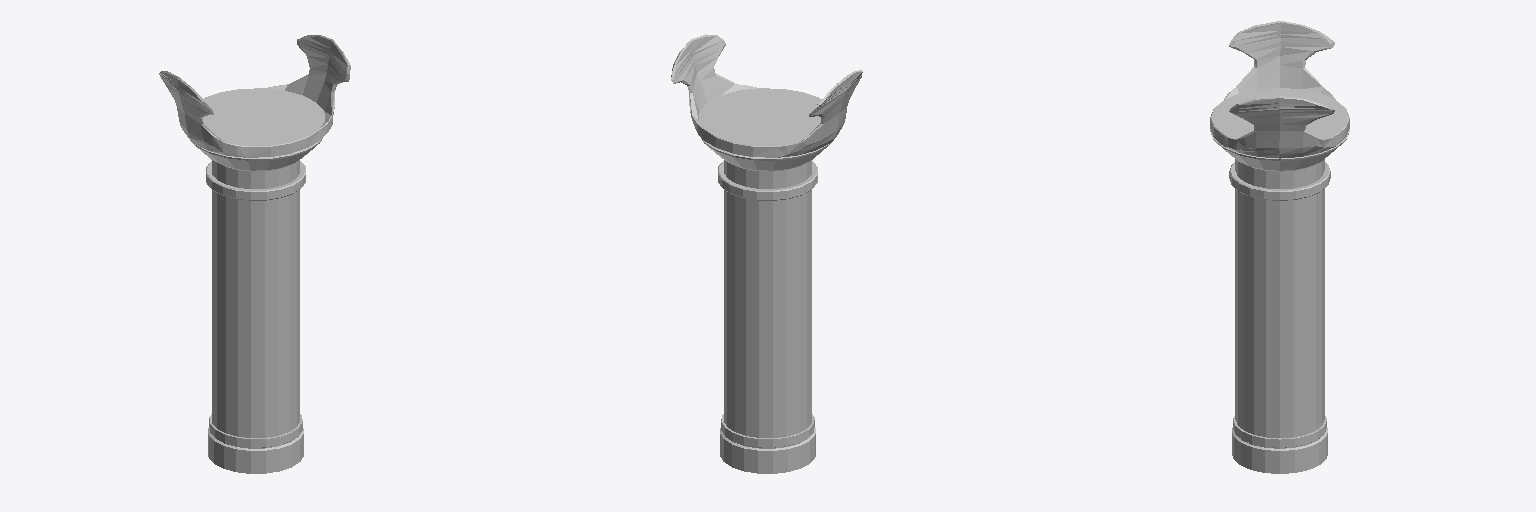
Rendered from TreeSuppPillar.obj.
3 views of the same model, side by side, from view 1: azimuth 30°, elevation 25°; view 2: azimuth 150°, elevation 25°; view 3: azimuth 270°, elevation 25° (orthographic).
Parts seen in each view (by area): view 1: pCylinder1; view 2: pCylinder1; view 3: pCylinder1.
Boxes of the visible parts, x1,y1,x2,y2 form: pCylinder1: [159, 35, 350, 473]; pCylinder1: [671, 34, 862, 473]; pCylinder1: [1210, 21, 1349, 473].
Size of the model in its own units: 405 by 979 by 315.